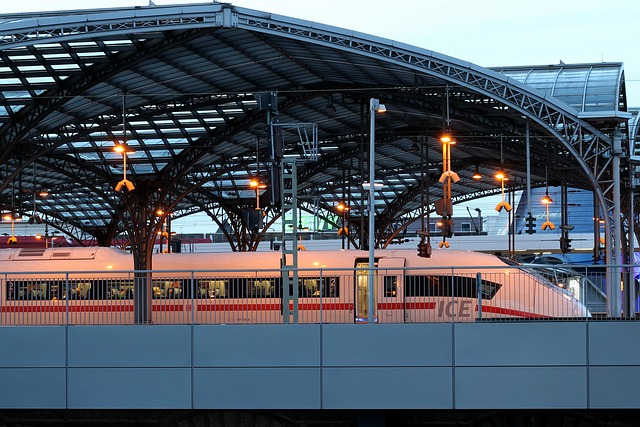train1: (2, 246, 597, 323)
